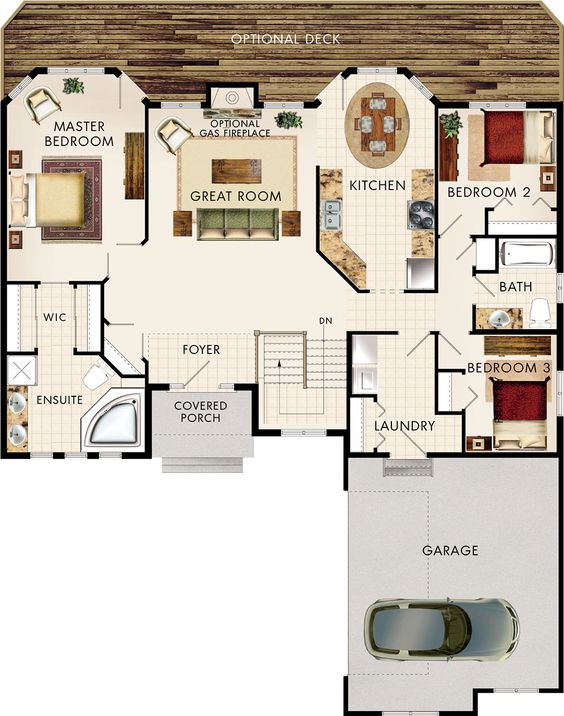wall: (1, 102, 6, 458), (558, 453, 564, 687), (557, 103, 562, 274), (427, 452, 562, 458), (434, 103, 438, 290), (556, 304, 564, 369), (145, 384, 152, 457), (472, 329, 563, 334), (314, 164, 319, 250), (144, 102, 147, 238), (345, 331, 351, 396), (251, 384, 258, 435), (206, 82, 259, 88), (346, 330, 399, 336), (100, 280, 104, 354), (470, 235, 559, 238), (435, 330, 438, 416), (434, 102, 468, 109), (526, 102, 560, 109), (342, 710, 380, 716), (437, 710, 475, 716), (342, 676, 348, 714), (252, 429, 280, 437), (557, 417, 563, 454), (122, 452, 152, 459), (342, 456, 348, 491), (144, 383, 170, 391), (349, 452, 390, 457), (5, 452, 30, 459), (345, 394, 350, 429), (326, 429, 350, 436), (5, 351, 38, 356), (7, 280, 40, 285), (343, 430, 349, 457), (471, 689, 477, 716), (69, 279, 100, 284), (494, 236, 498, 273), (233, 384, 257, 390), (462, 409, 465, 456), (437, 368, 465, 373), (144, 362, 150, 384), (472, 304, 477, 330), (205, 82, 210, 107), (253, 82, 258, 107), (122, 374, 147, 379), (538, 688, 563, 693), (72, 350, 102, 354), (436, 411, 465, 415), (471, 270, 498, 274), (404, 290, 438, 293), (145, 102, 161, 108), (346, 394, 377, 397), (52, 452, 65, 459), (87, 452, 99, 459), (472, 689, 493, 693), (484, 208, 487, 236), (201, 101, 211, 107), (470, 266, 476, 276), (253, 101, 262, 107), (372, 448, 378, 456), (372, 394, 378, 402), (33, 346, 38, 355), (358, 289, 369, 293), (430, 331, 440, 335), (550, 207, 560, 211), (33, 281, 38, 288), (462, 368, 466, 376), (472, 234, 475, 243)
